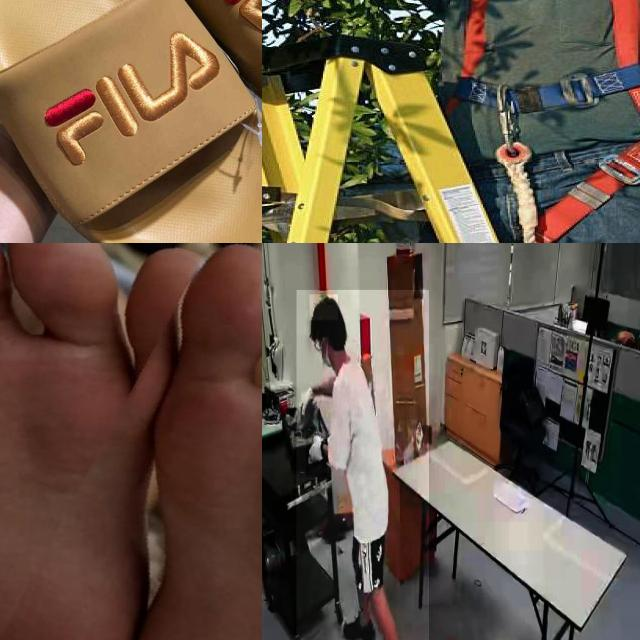Barefoots: (0, 243, 262, 640)
Harness: (444, 0, 640, 153)
Sandals: (0, 0, 262, 243)
hand_glove: (306, 427, 328, 477)
head_nohelmet: (310, 294, 338, 321)
person: (296, 290, 429, 640)
shoes: (341, 615, 376, 640)
